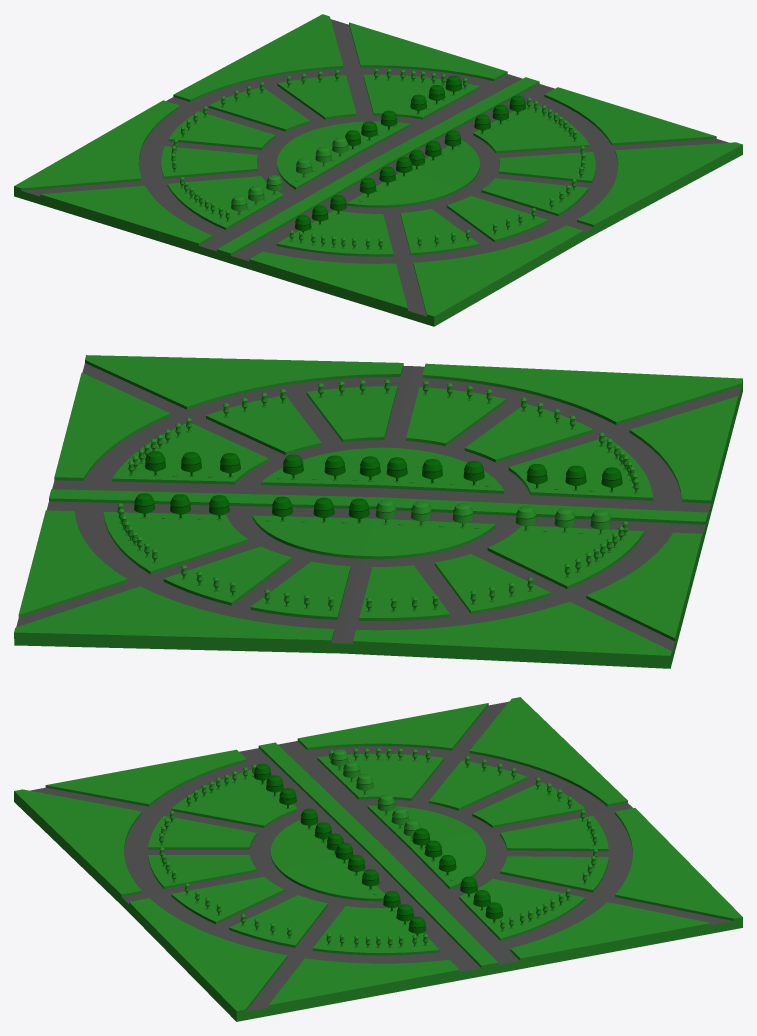
File: RedMountain.glb
3 views of the same model, one above another, from view 1: azimuth 30°, elevation 25°; view 2: azimuth 150°, elevation 25°; view 3: azimuth 270°, elevation 25° (orthographic). The views are drawn at different scales.
Parts seen in each view (by area): view 1: Твердое тело1 (×4); view 2: Твердое тело1 (×4); view 3: Твердое тело1 (×4).
Boxes of the visible parts, x1,y1,x2,y2 form: Твердое тело1 (×4): (14, 14, 742, 326); Твердое тело1 (×4): (14, 355, 742, 668); Твердое тело1 (×4): (14, 697, 742, 1021).
Bounding box in the file's own units: 0.0791 × 0.00422 × 0.0791.
